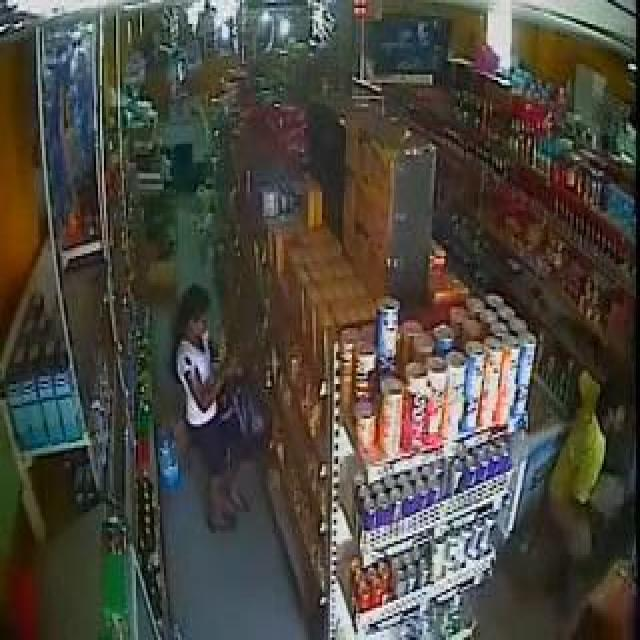Shoplifting: (150, 264, 306, 572)
